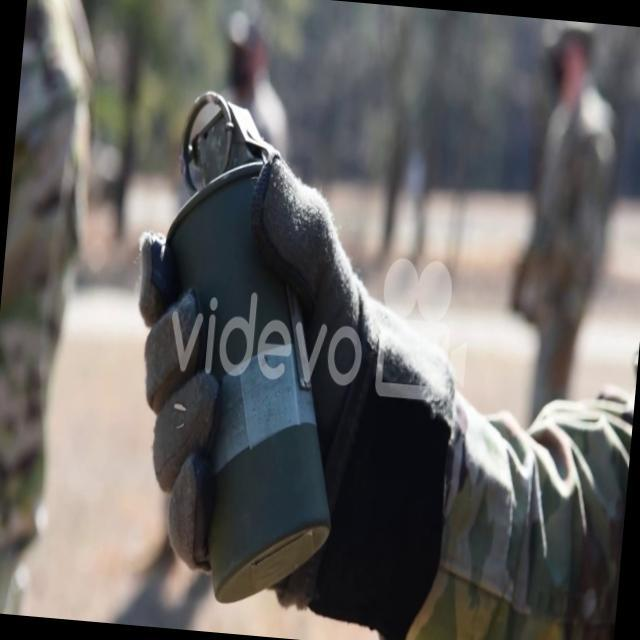grenade: (119, 85, 368, 608)
